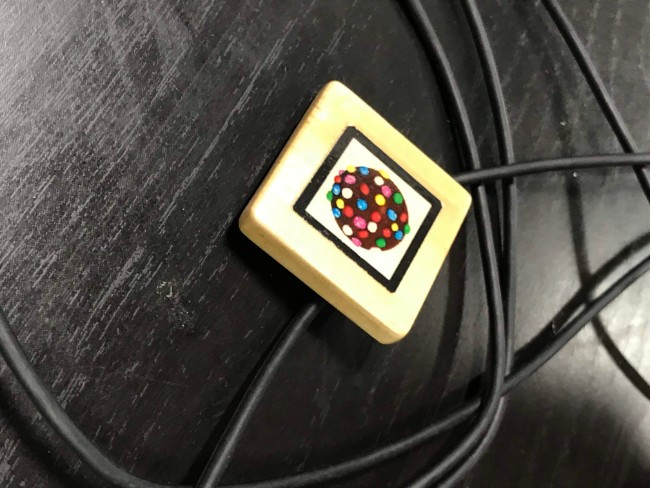cookie: (285, 113, 456, 300)
